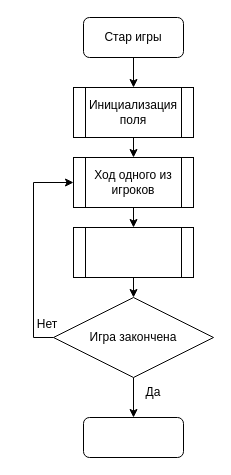
The diagram is 231 pixels wide and 475 high, and some of its shapes have lost their labels. The shapes that lost their labels are listed below. From the top down, each one's box as (x1, y1, x2, y2) in pixels, then its label:
(72, 226, 194, 278): Обновление среды
(82, 416, 184, 458): Конец
